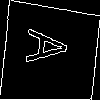A: (25, 29, 80, 68)
